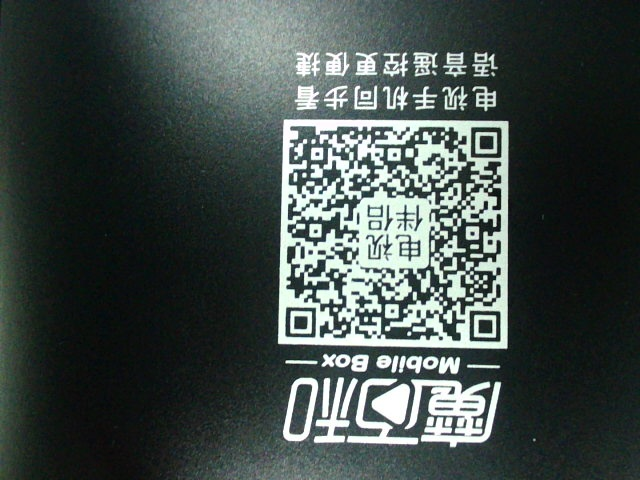AZ_MobileBox: (259, 40, 507, 451)
